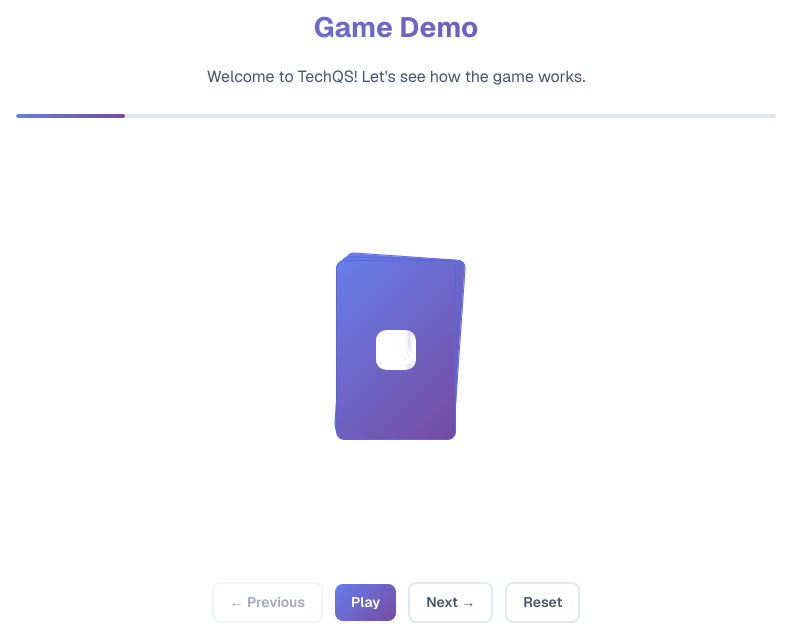
Test: GameDemo › goes to previous step when previous button is clicked
The image size is (793, 640).
// First advance to next step
Click the button "Next →" at (451, 602), box [408,582,493,623]
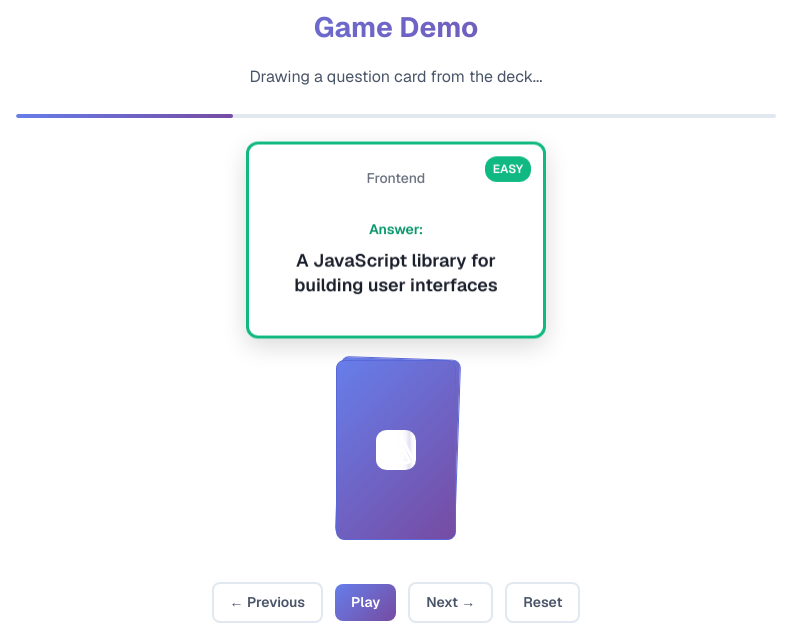
// Then go back
Click the button "← Previous" at (267, 602), box [212,582,323,623]
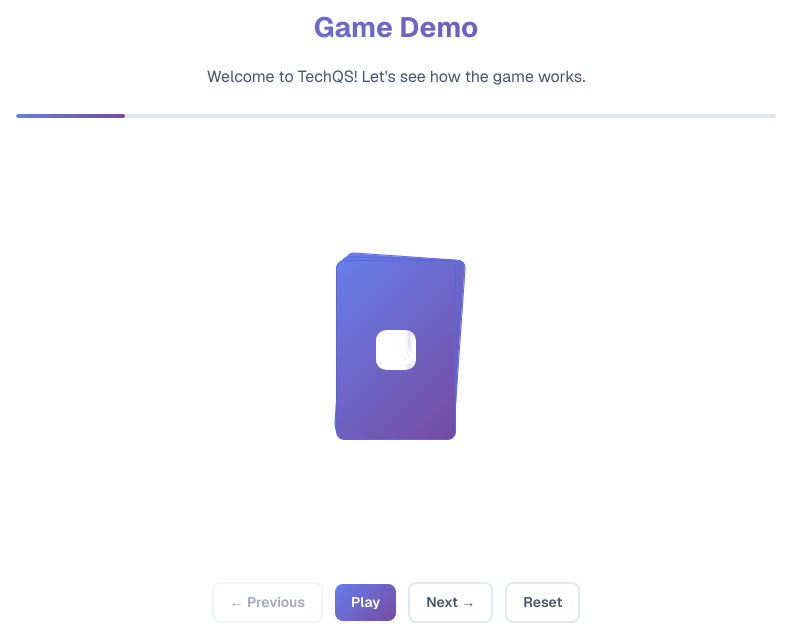
Result: the text "Welcome to TechQS! Let's see how the game works." is shown at [207,66,585,87]
